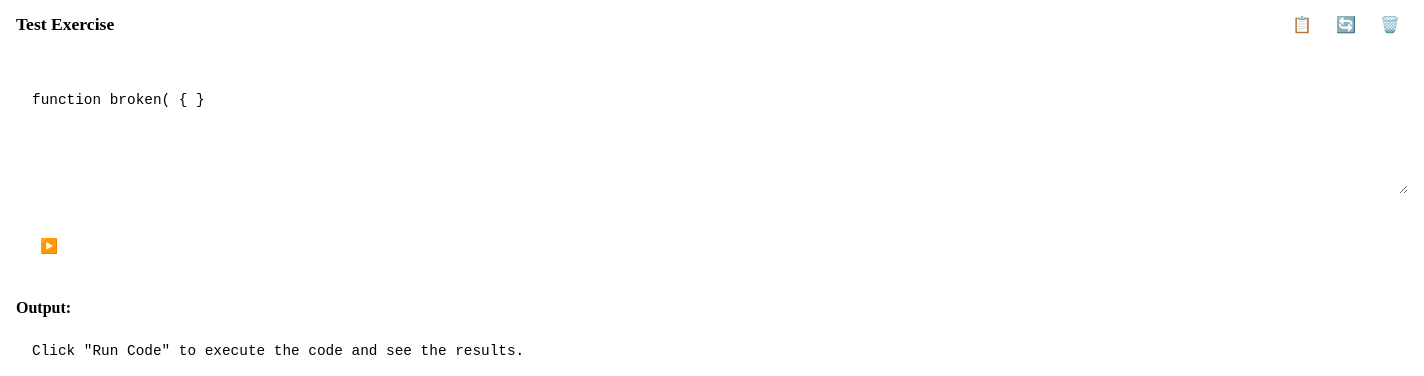
Test: CodeRunner › handles syntax errors gracefully
Click the button "▶️ Run Code" at (85, 246), box [16, 226, 154, 267]
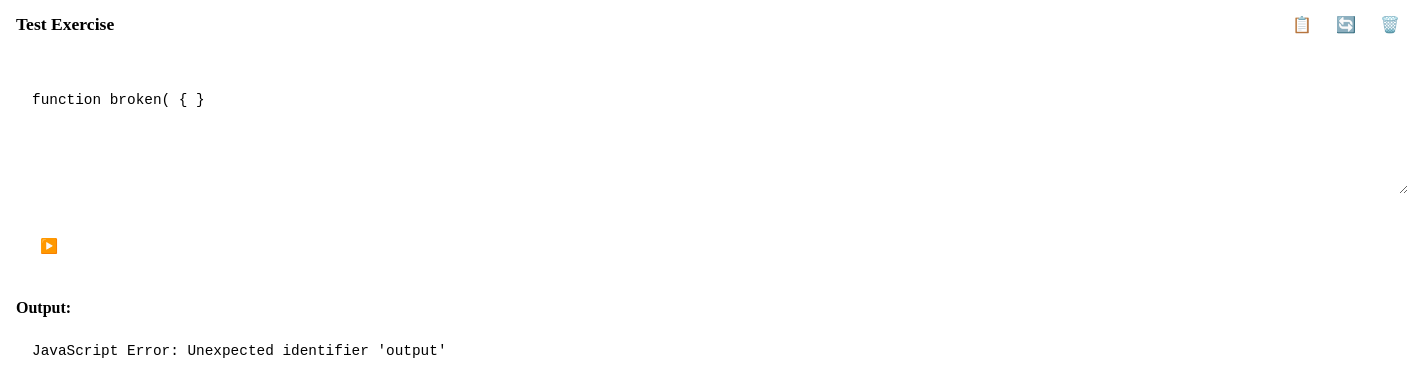
Check: the text "Error" is shown, box [32, 343, 446, 359]
